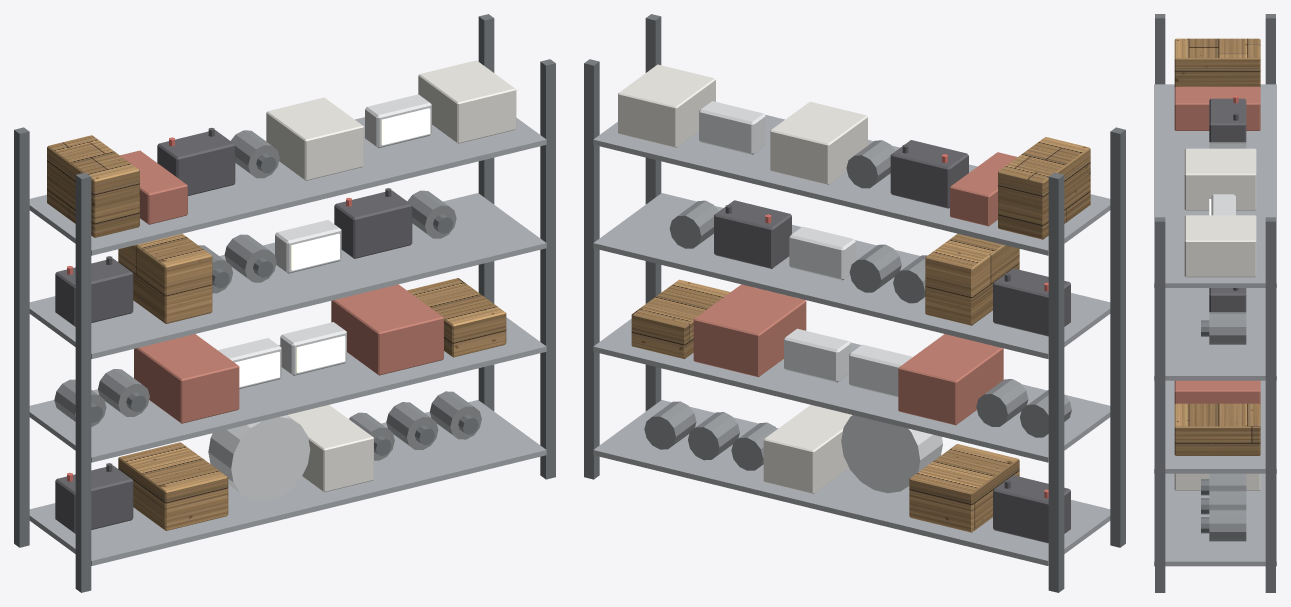
The model's file is parts_rack_b.glb.
The picture shows the model from 3 angles, left to right: view 1: azimuth 30°, elevation 25°; view 2: azimuth 150°, elevation 25°; view 3: azimuth 270°, elevation 25°; orthographic projection. The views are drawn at different scales.
Parts seen in each view (by area): view 1: parts_rack_b_steel, parts_rack_b_steel_d, parts_rack_b_pallet, parts_rack_b_engine_r, parts_rack_b_paper, parts_rack_b_battery, parts_rack_b_chrome, parts_rack_b_engine, parts_rack_b_lamp_glass; view 2: parts_rack_b_steel, parts_rack_b_pallet, parts_rack_b_steel_d, parts_rack_b_paper, parts_rack_b_engine_r, parts_rack_b_chrome, parts_rack_b_battery, parts_rack_b_engine; view 3: parts_rack_b_steel, parts_rack_b_steel_d, parts_rack_b_paper, parts_rack_b_pallet, parts_rack_b_engine_r, parts_rack_b_engine, parts_rack_b_battery, parts_rack_b_chrome.
Boxes of the visible parts, x1,y1,x2,y2 form: parts_rack_b_steel: (29,117,546,565); parts_rack_b_steel_d: (14,14,555,592); parts_rack_b_pallet: (47,135,506,530); parts_rack_b_engine_r: (120,150,443,423); parts_rack_b_paper: (266,60,516,492); parts_rack_b_battery: (55,130,412,533); parts_rack_b_chrome: (208,94,431,501); parts_rack_b_engine: (54,130,481,460); parts_rack_b_lamp_glass: (234,108,430,387); parts_rack_b_steel: (593,114,1110,565); parts_rack_b_pallet: (631,137,1090,532); parts_rack_b_steel_d: (584,14,1125,592); parts_rack_b_paper: (618,64,867,493); parts_rack_b_engine_r: (693,152,1017,425); parts_rack_b_chrome: (699,101,942,493); parts_rack_b_battery: (714,140,1070,543); parts_rack_b_engine: (644,140,1071,470); parts_rack_b_steel: (1154,84,1276,566); parts_rack_b_steel_d: (1155,14,1275,592); parts_rack_b_paper: (1174,148,1260,490); parts_rack_b_pallet: (1174,38,1260,455); parts_rack_b_engine_r: (1174,86,1260,404); parts_rack_b_engine: (1209,142,1246,541); parts_rack_b_battery: (1209,98,1246,311); parts_rack_b_chrome: (1211,194,1235,215).
Bounding box in the file's own units: 2.4 × 2 × 0.6.
Materials: 11 (1 with a texture image).
